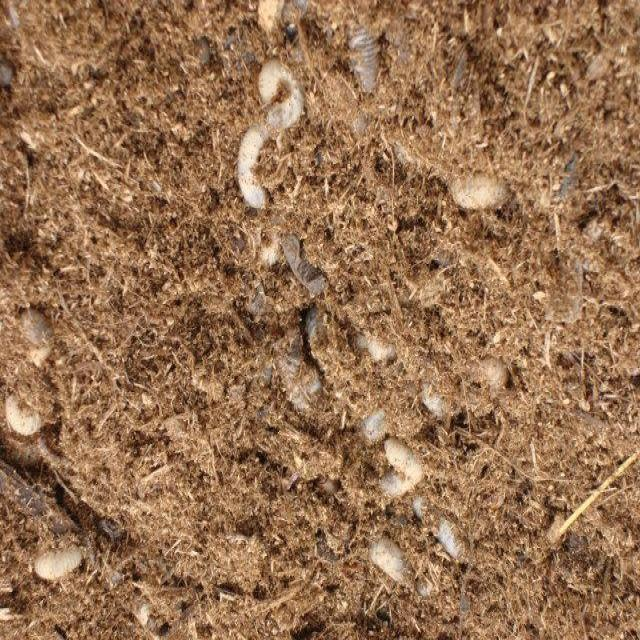grub: (217, 54, 301, 215), (445, 171, 512, 231), (375, 427, 423, 508), (342, 14, 387, 98), (367, 529, 412, 598), (25, 540, 85, 588)
